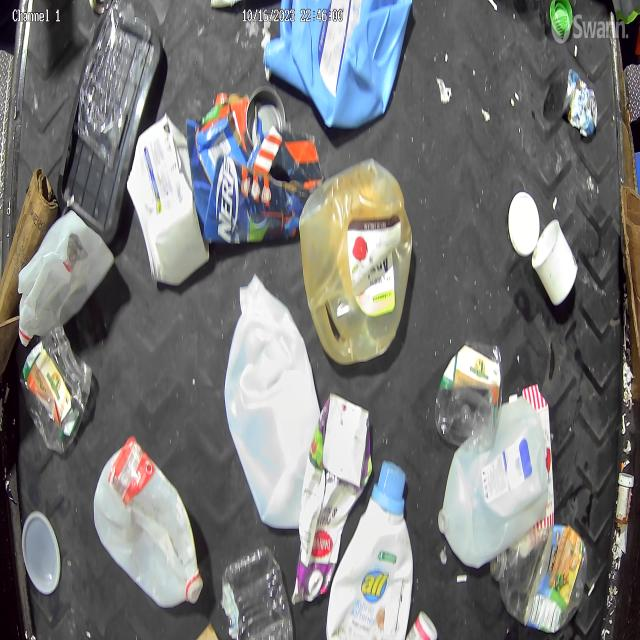can: (245, 86, 286, 156), (565, 66, 600, 141)
milk_jug: (227, 275, 320, 528), (440, 395, 556, 570), (94, 435, 205, 611), (19, 210, 115, 346)
non_white_jug: (300, 162, 414, 364), (268, 1, 411, 129), (292, 394, 375, 606), (328, 459, 414, 640)
plastic_bottle: (492, 520, 589, 634)
